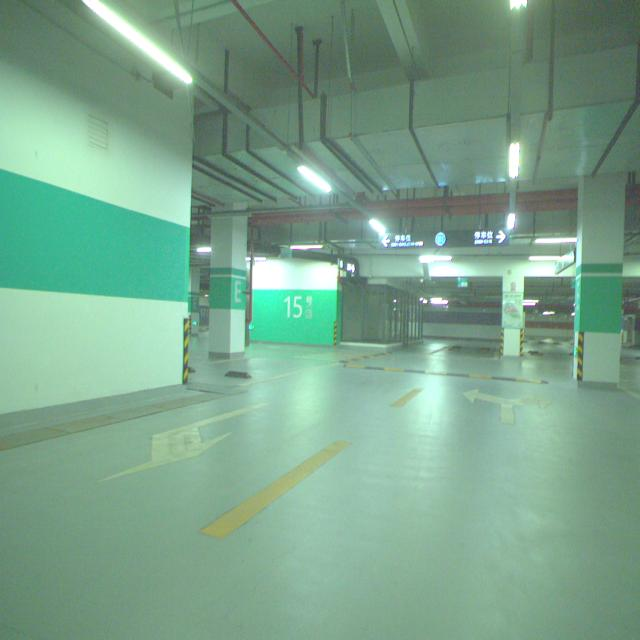pillar: (571, 175, 625, 384), (209, 216, 248, 356)
